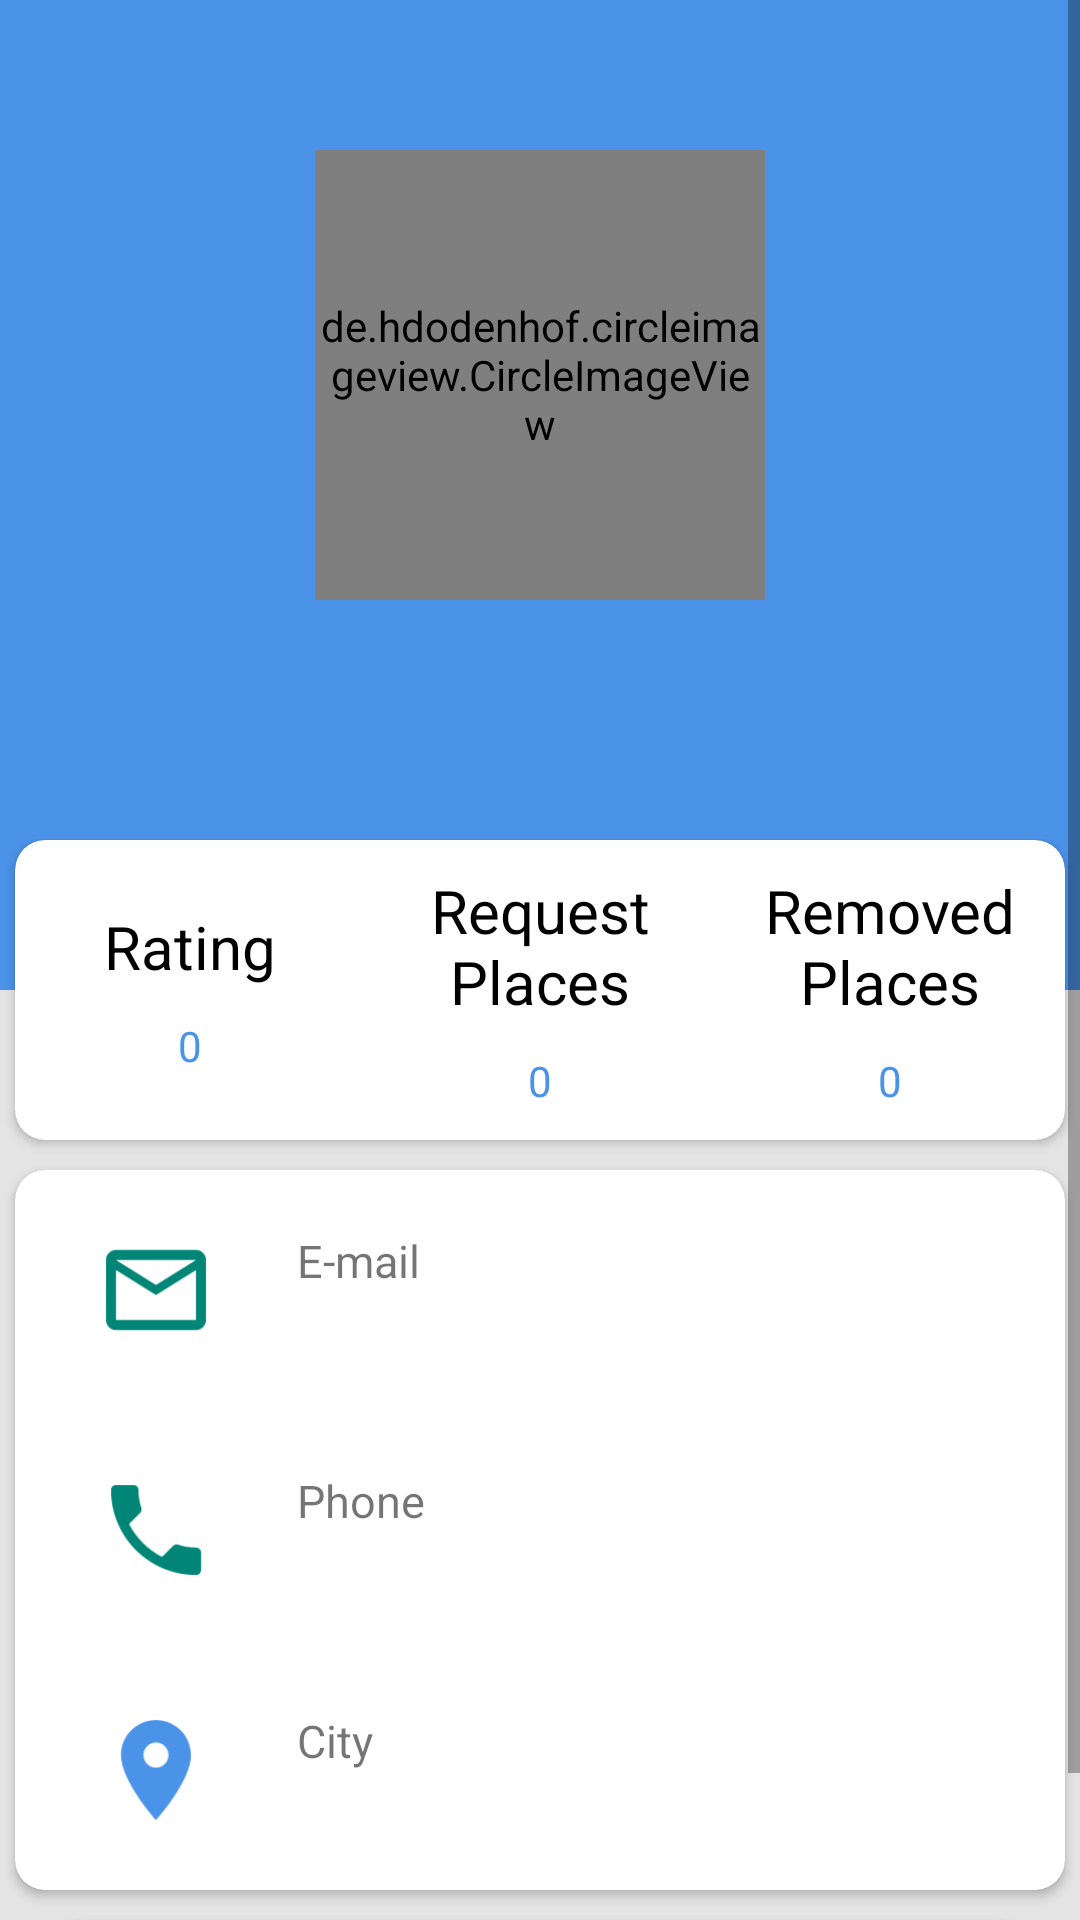

Icons on this 1080 × 1920 Android screen, each with the point to tap as (x,y):
location on: (155,1770)
